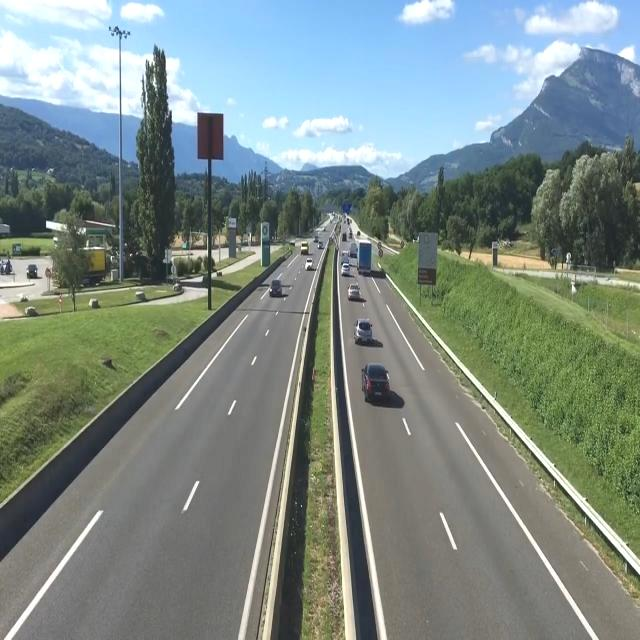Car: (362, 362, 391, 401), (353, 318, 374, 342), (268, 278, 284, 296), (348, 283, 362, 299), (341, 263, 351, 277), (305, 259, 315, 271)
Truck: (355, 239, 372, 276), (300, 240, 310, 256)
